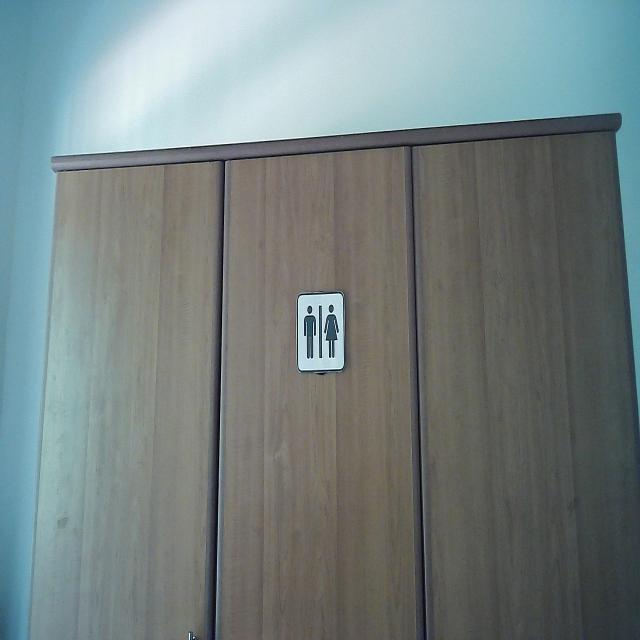restroom: (296, 290, 348, 375)
